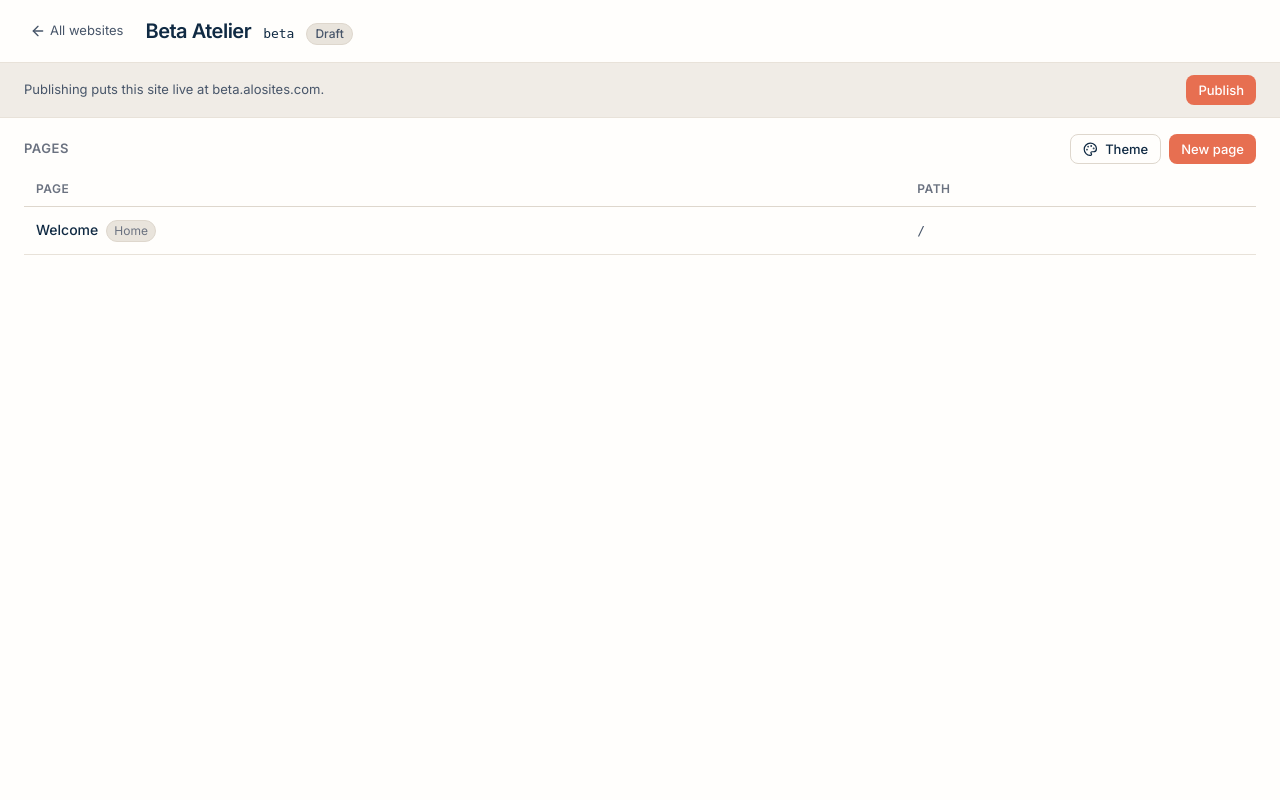
Test case: publishing a site › a draft offers Publish with the goes-live address; publishing flips it live
This screenshot has width=1280, height=800.
Step 1. Click the button "Publish" → (1221, 90), box [1186,75,1256,105]
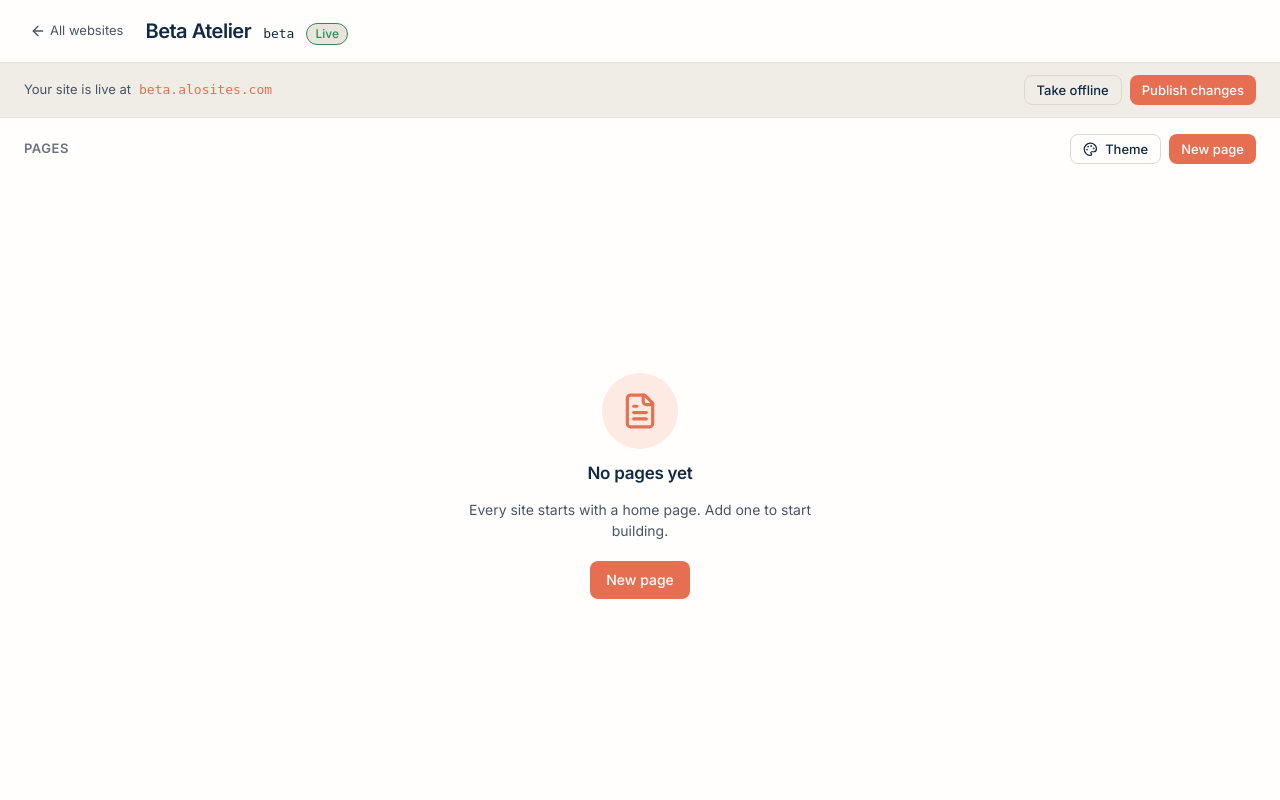
Expected: the text "Live" is shown, [306,23,348,45]
